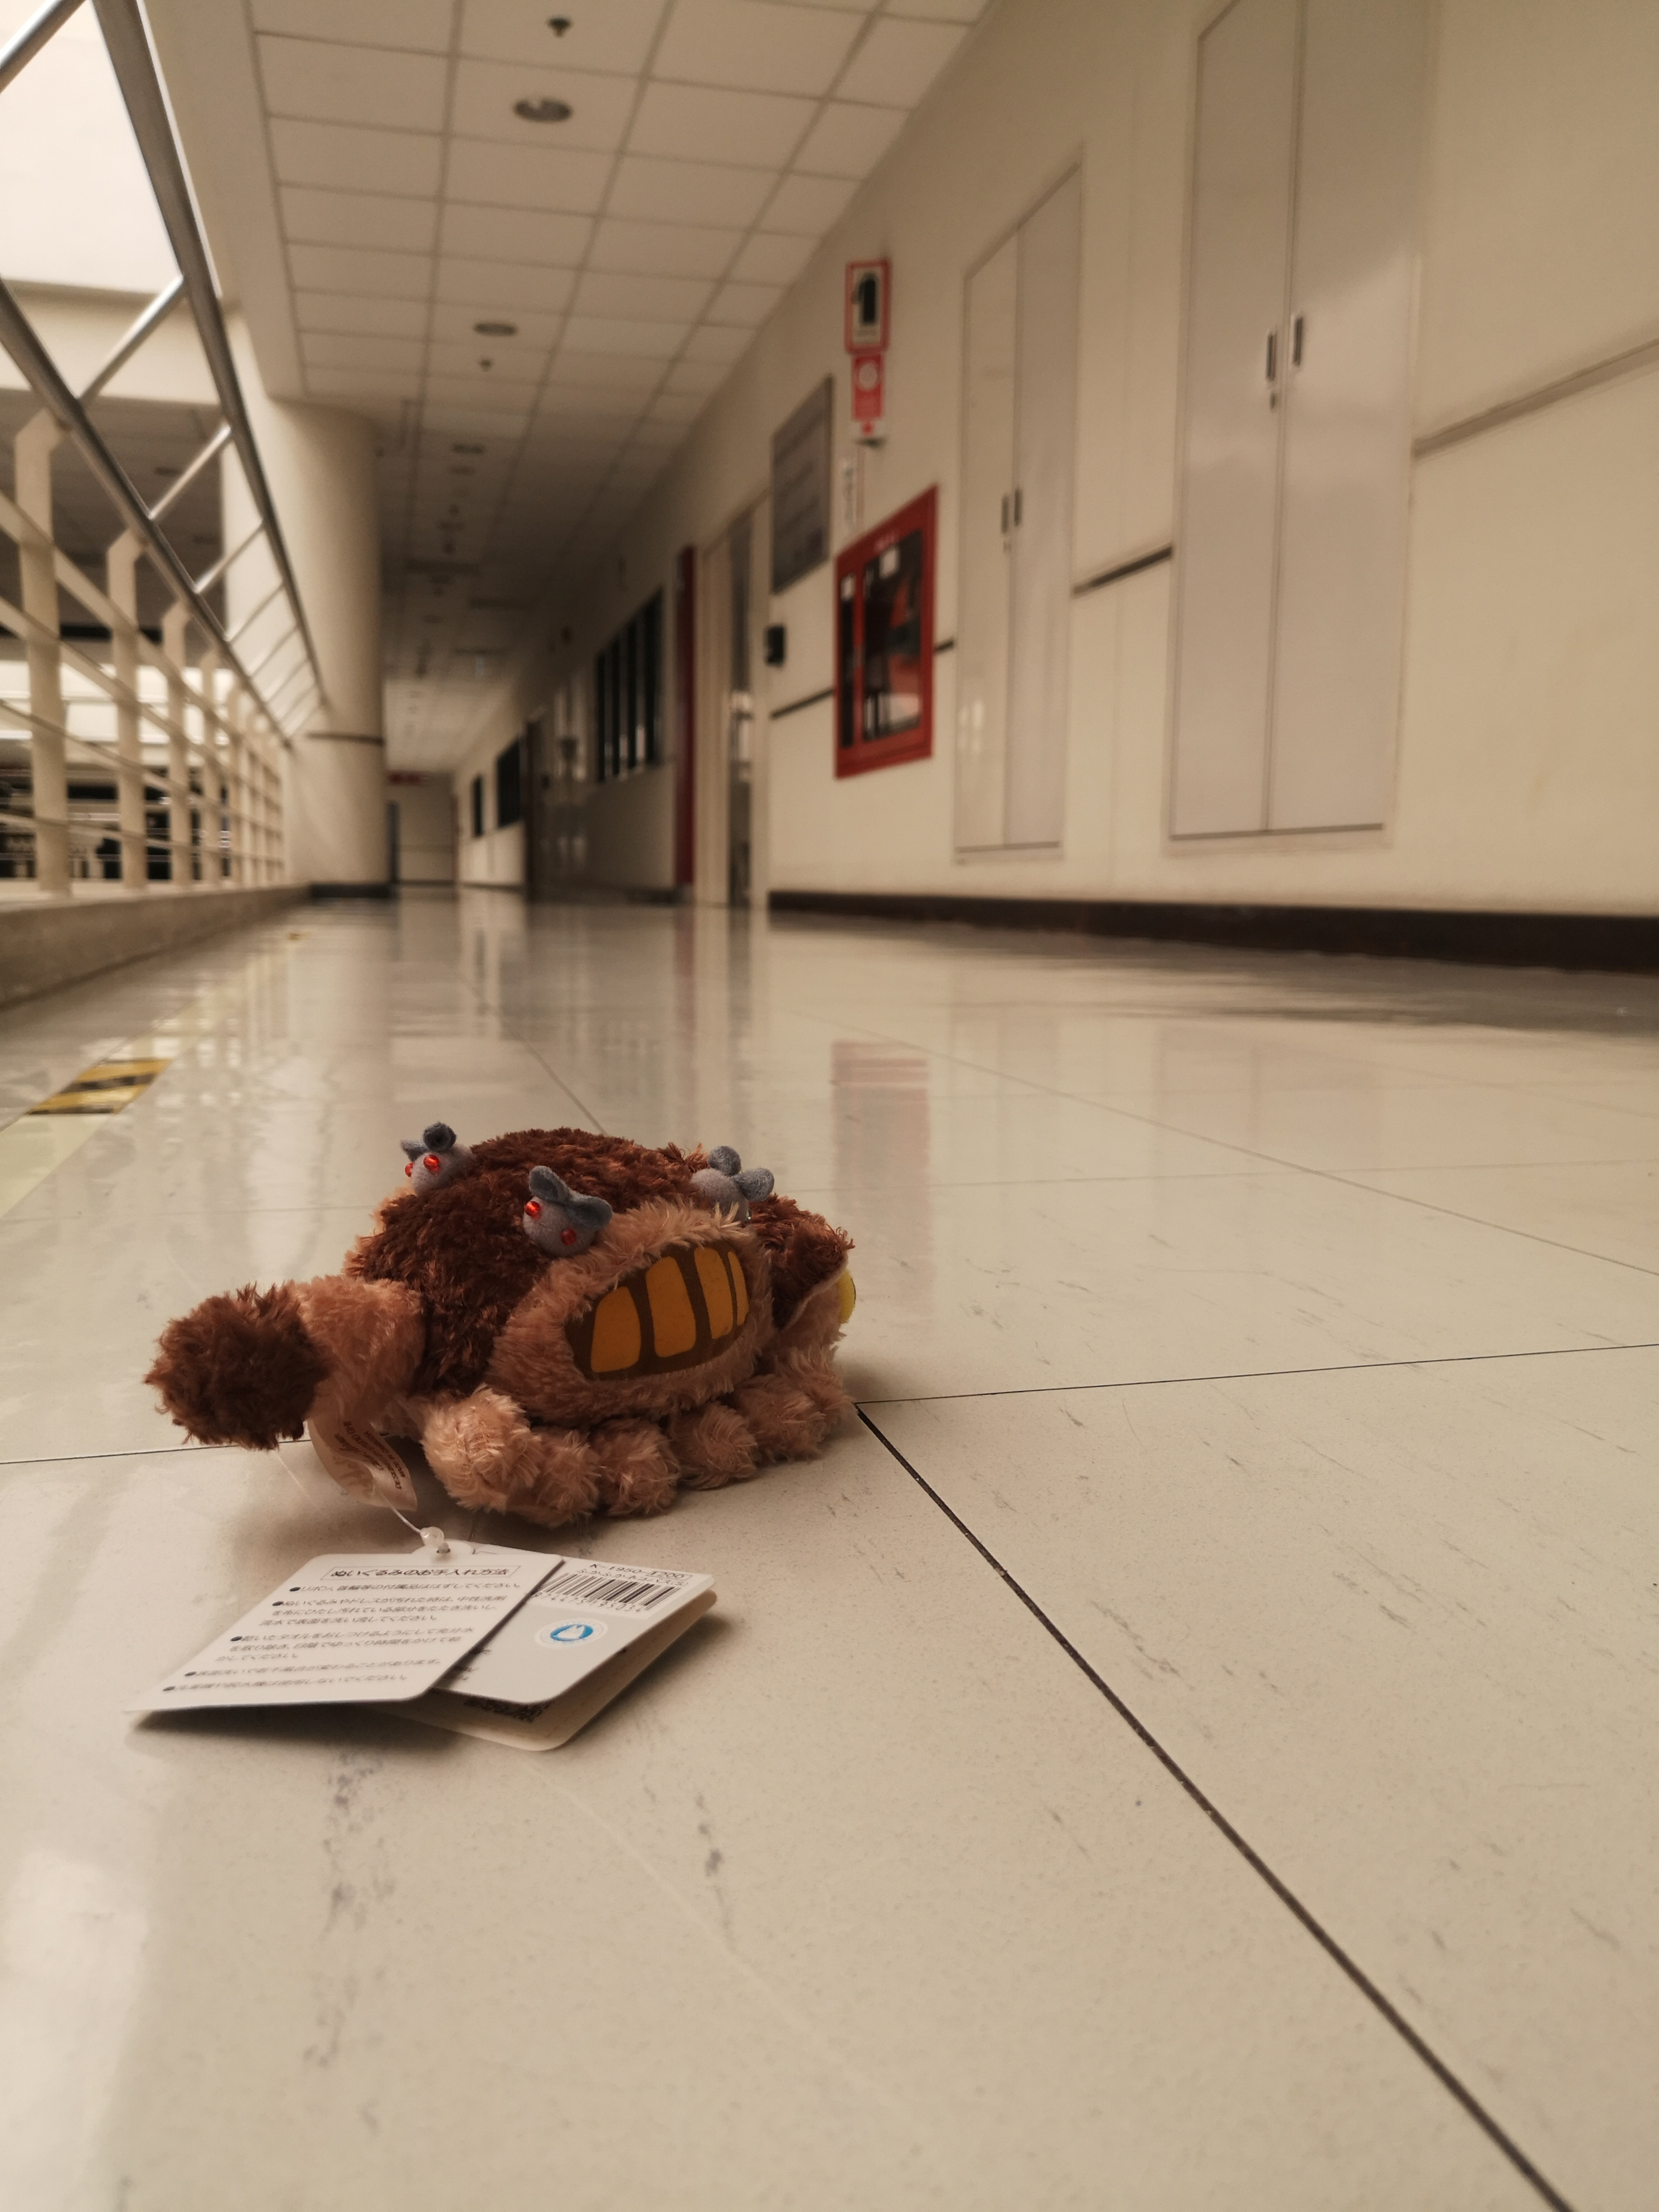nekobus: (145, 1113, 868, 1531)
